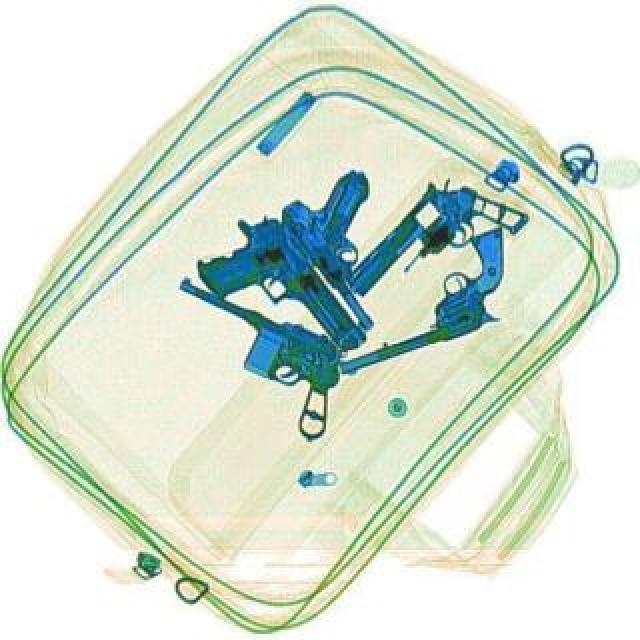gun: (134, 268, 366, 442), (334, 154, 530, 338), (182, 200, 368, 390), (306, 224, 536, 376), (270, 160, 446, 330)
